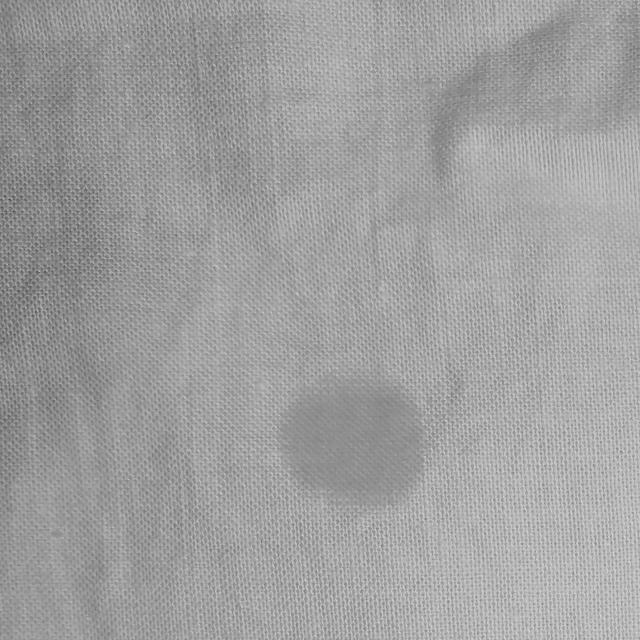Thread_other: (363, 6, 640, 242), (247, 352, 458, 528)
